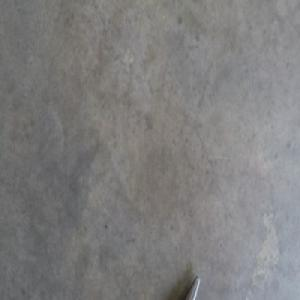Pliers: (182, 276, 202, 298)
